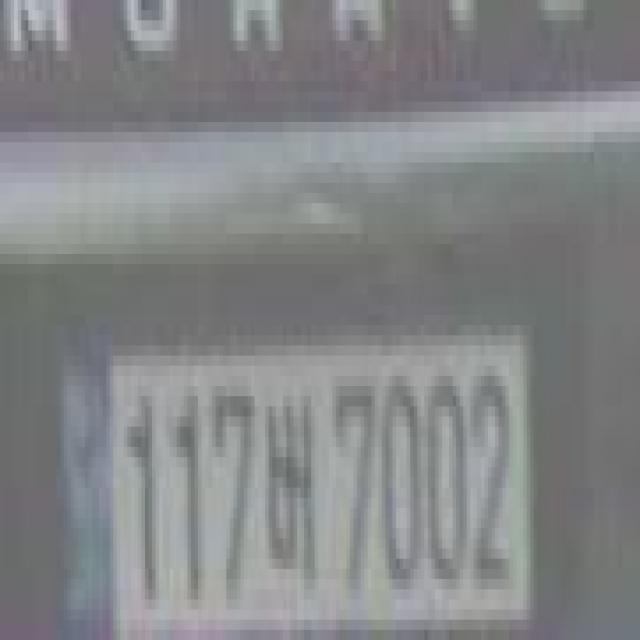illegal_plate: (46, 330, 534, 640)
